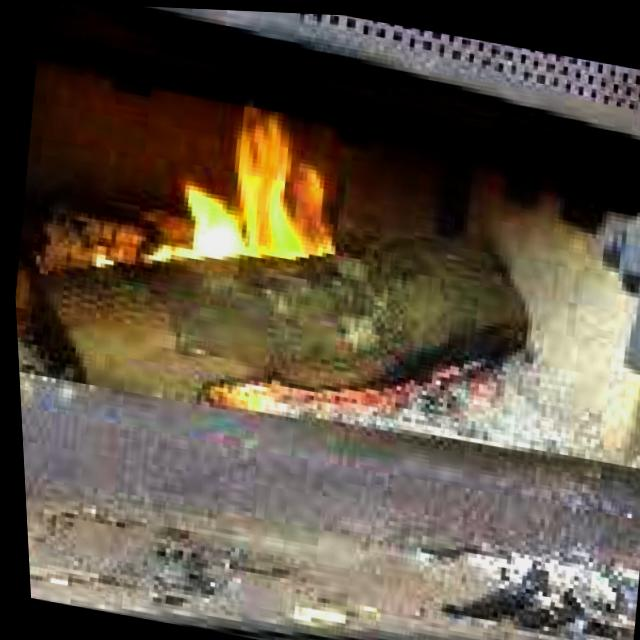fire: (148, 95, 352, 286)
